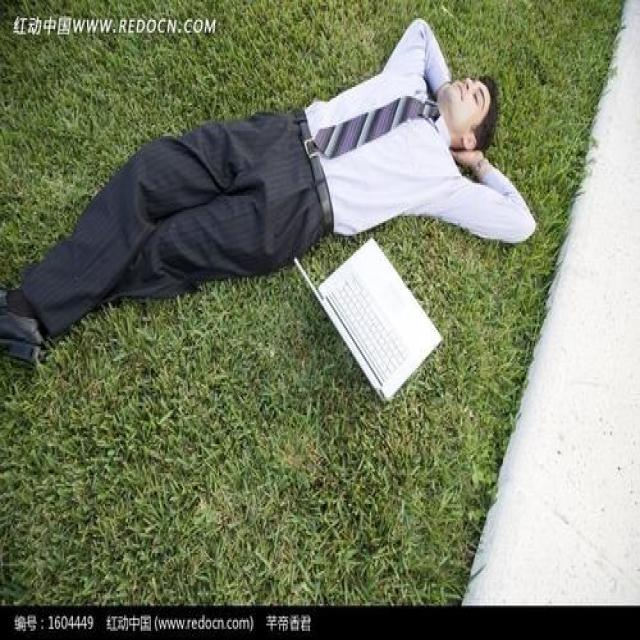fall: (19, 29, 520, 355)
